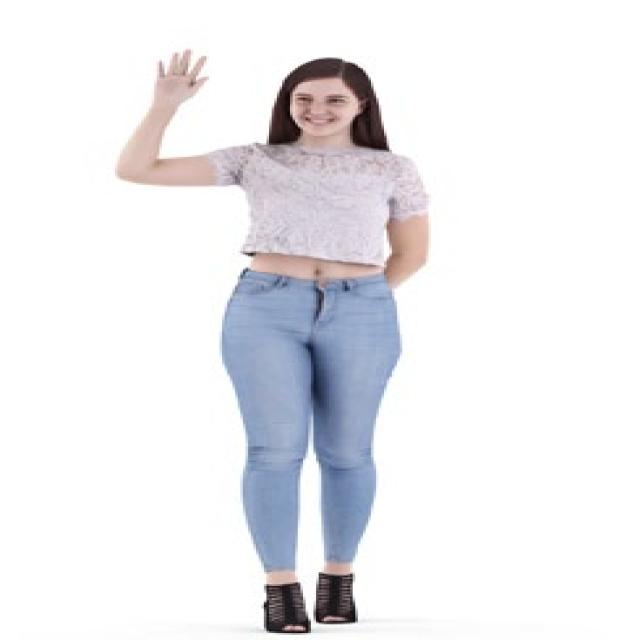standing: (110, 48, 440, 635)
